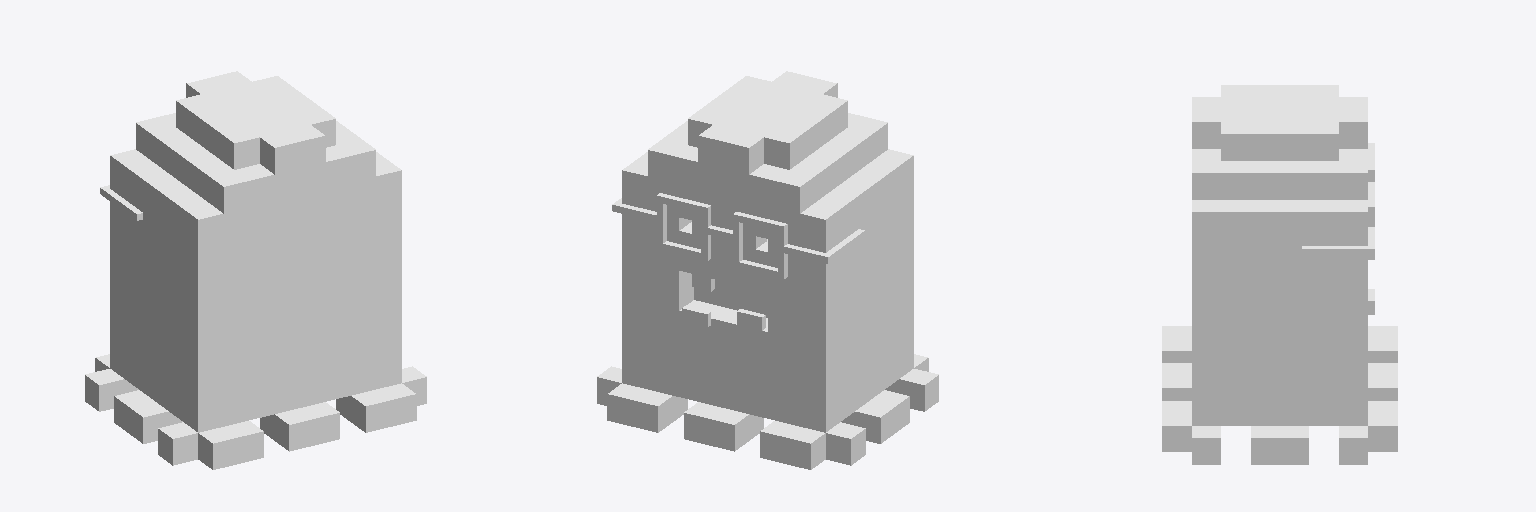
Rendered from GhostPotter.obj.
The picture shows the model from 3 angles: view 1: azimuth 30°, elevation 25°; view 2: azimuth 150°, elevation 25°; view 3: azimuth 270°, elevation 25°; orthographic projection.
Parts seen in each view (by area): view 1: object 1; view 2: object 1; view 3: object 1.
Part boxes in pixels (left/top/right/bottom): object 1: left=85, top=71, right=426, bottom=469; object 1: left=597, top=71, right=938, bottom=469; object 1: left=1162, top=85, right=1397, bottom=464.
Bounding box in the file's own units: 4 × 4.4 × 3.2.